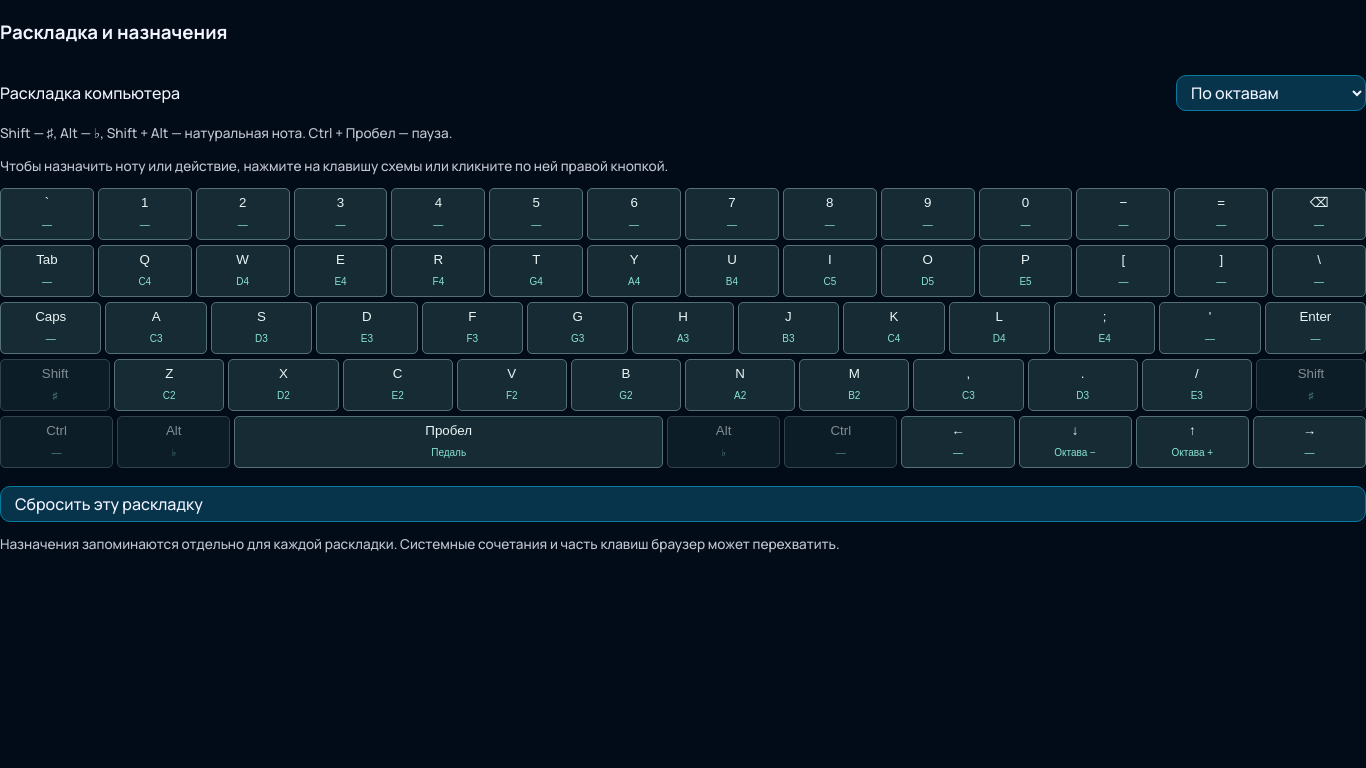
it: computer keyboard assignment interactions › shows failed persistence while keeping the new assignment usable in memory
Click the button "G G3".
click(578, 328)  # box [527,302,628,354]
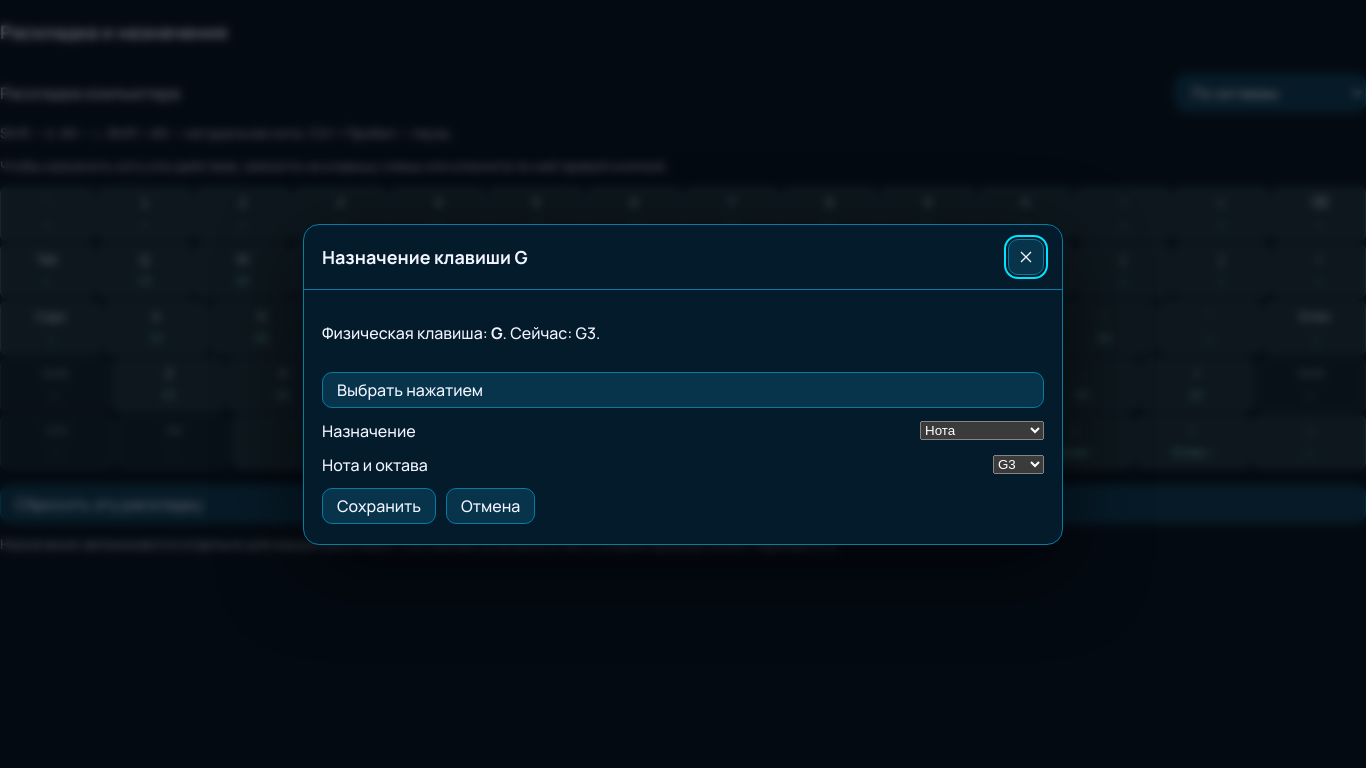
Select "F4" in the dropdown named "Нота и октава" at (1018, 464), box [993,455,1044,474]
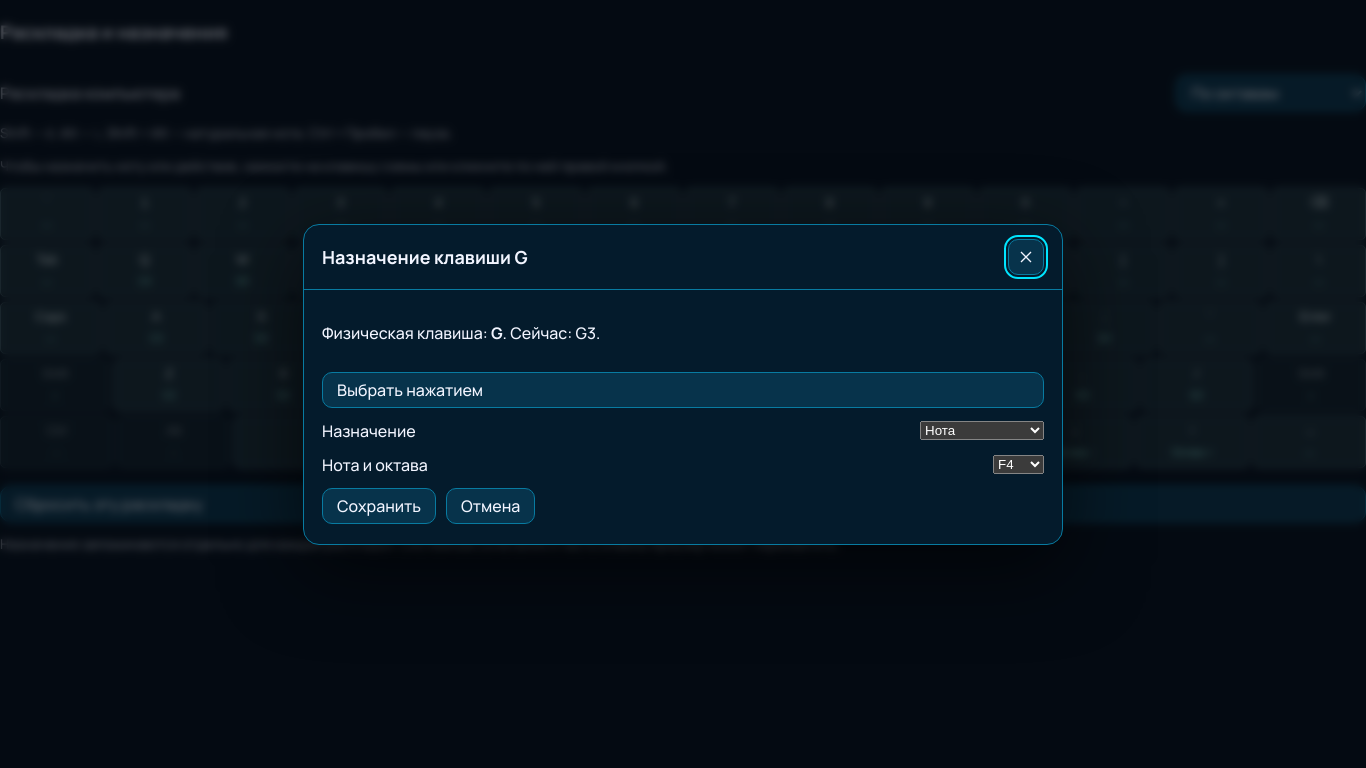
Click the button "Сохранить".
click(379, 506)  # box [322,488,436,524]
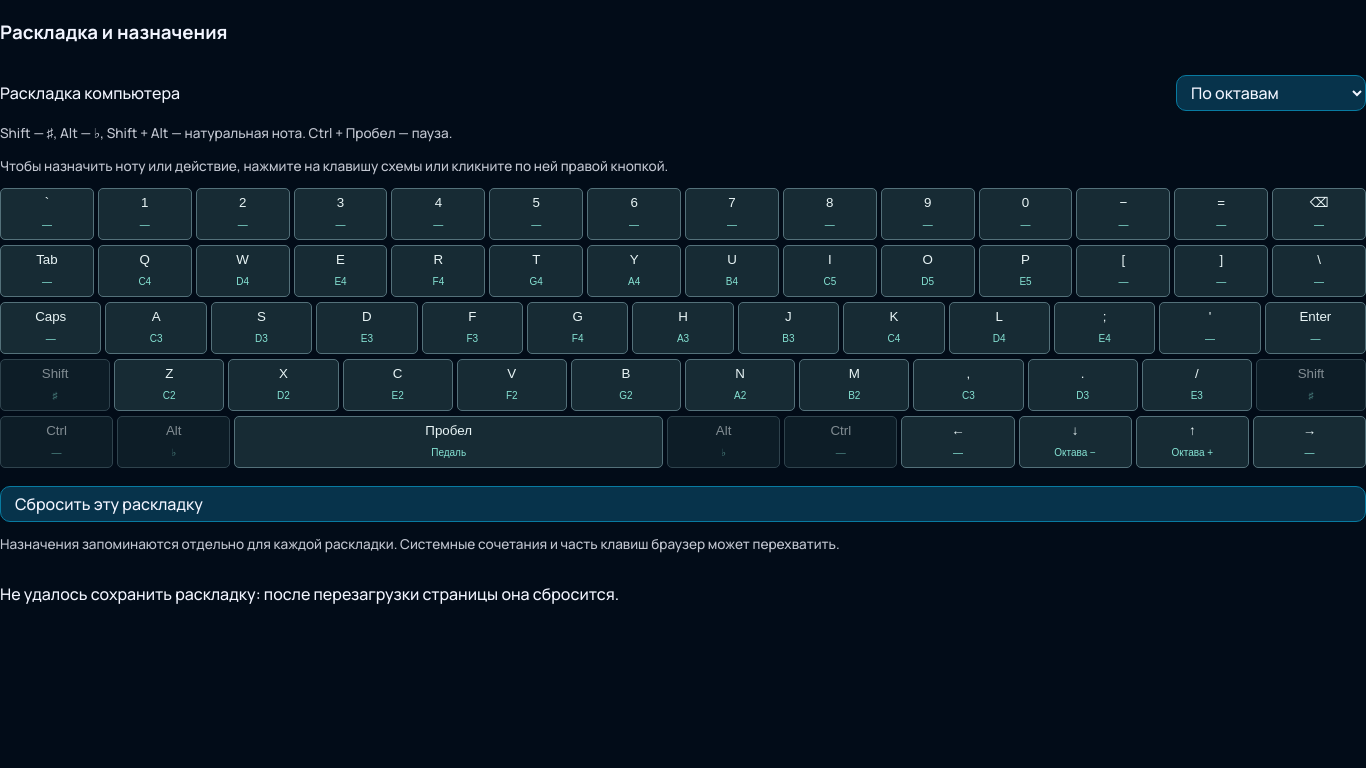
Result: the message "Не удалось сохранить раскладку: после перезагрузки страницы она сбросится." is shown at [0,583,619,605]
